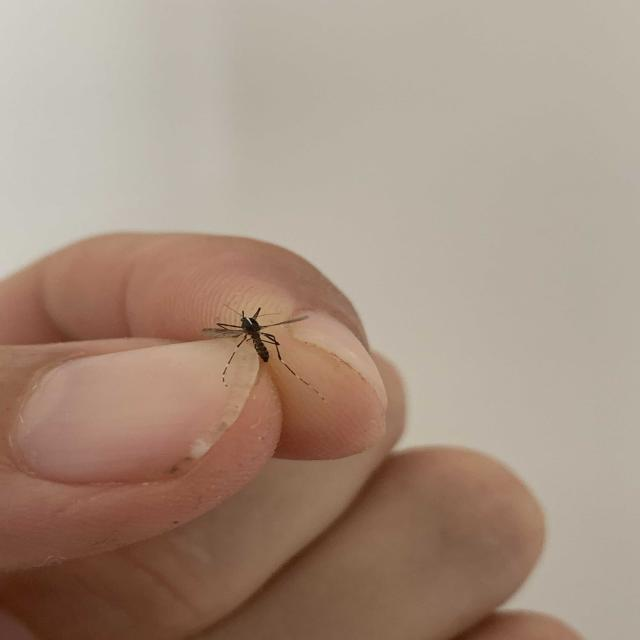albopictus: (203, 295, 317, 391)
